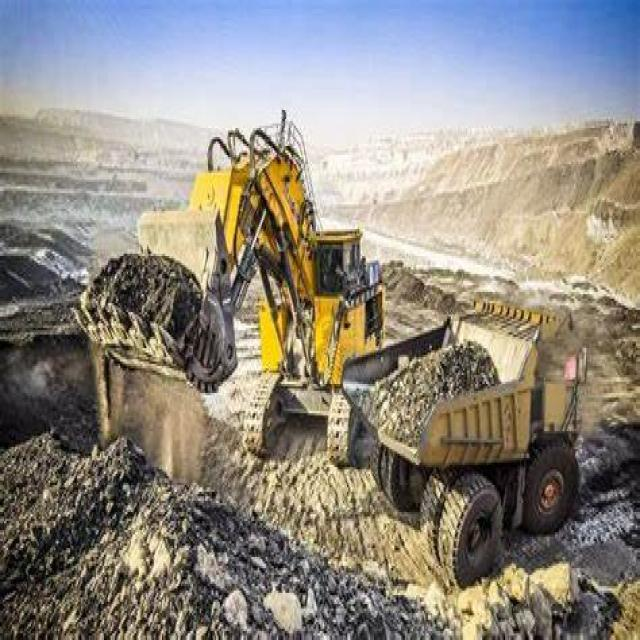dump_truck: (339, 272, 626, 593)
excavator: (70, 70, 374, 498)
